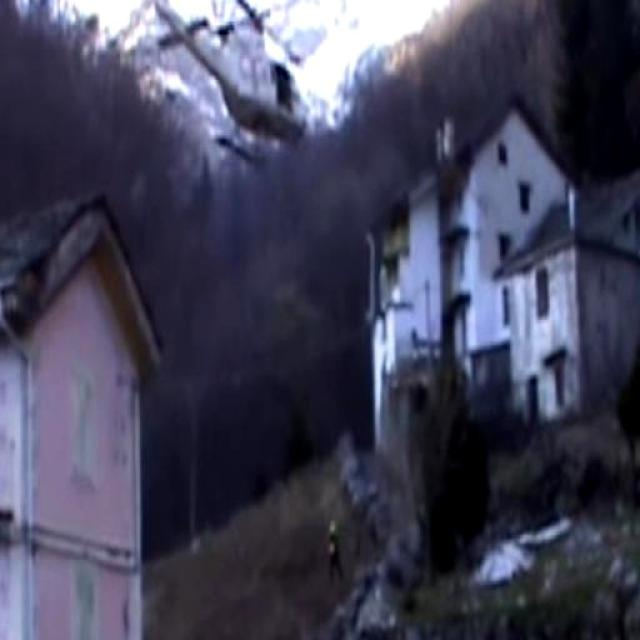drone: (145, 0, 320, 166)
